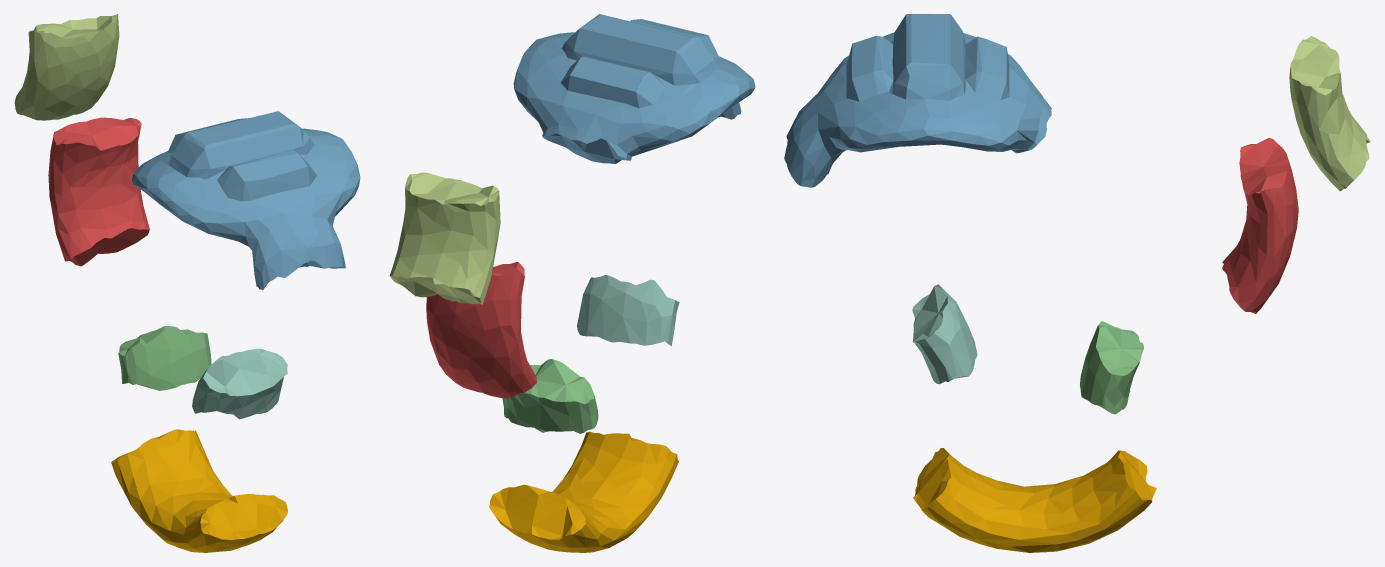
File: fractured_78_6pcs_transformed.glb
3 renders of one model, left to right at view 1: azimuth 30°, elevation 25°; view 2: azimuth 150°, elevation 25°; view 3: azimuth 270°, elevation 25°, orthographic. The views are drawn at different scales.
Parts seen in each view (by area): view 1: piece_2.obj, piece_0.obj, piece_1.obj, piece_5.obj, piece_4.obj, piece_3.obj; view 2: piece_2.obj, piece_0.obj, piece_5.obj, piece_1.obj, piece_4.obj, piece_3.obj; view 3: piece_2.obj, piece_0.obj, piece_1.obj, piece_5.obj, piece_4.obj, piece_3.obj.
Part boxes in pixels (left/top/right/bottom): piece_2.obj: left=131, top=111, right=360, bottom=289; piece_0.obj: left=111, top=429, right=287, bottom=552; piece_1.obj: left=48, top=117, right=149, bottom=266; piece_5.obj: left=14, top=14, right=119, bottom=120; piece_4.obj: left=192, top=348, right=287, bottom=419; piece_3.obj: left=118, top=326, right=211, bottom=390; piece_2.obj: left=513, top=14, right=755, bottom=163; piece_0.obj: left=489, top=431, right=678, bottom=552; piece_5.obj: left=389, top=172, right=500, bottom=304; piece_1.obj: left=426, top=262, right=536, bottom=398; piece_4.obj: left=577, top=275, right=679, bottom=345; piece_3.obj: left=502, top=359, right=598, bottom=433; piece_2.obj: left=784, top=14, right=1051, bottom=187; piece_0.obj: left=913, top=448, right=1156, bottom=552; piece_1.obj: left=1222, top=138, right=1298, bottom=313; piece_5.obj: left=1289, top=36, right=1370, bottom=191; piece_4.obj: left=912, top=284, right=977, bottom=384; piece_3.obj: left=1080, top=321, right=1143, bottom=414.
Size of the model in its own units: 0.7357 by 1.6 by 1.69.
